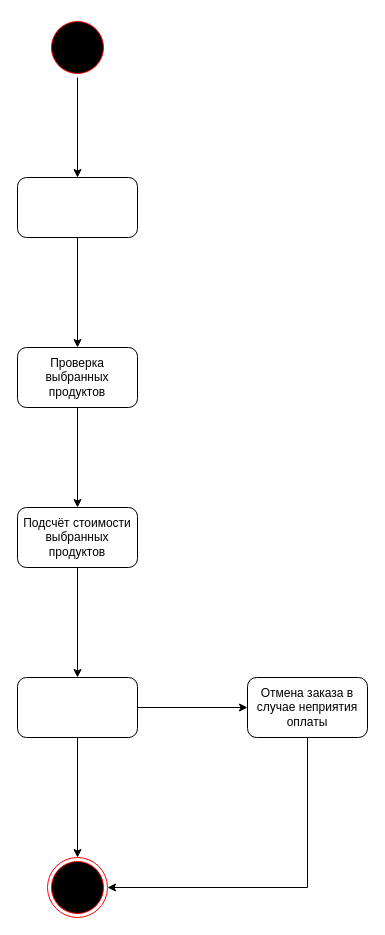
This 385x935 diagram has some shape labels left out. The shapes that lost their labels are listed below. From the top down, each one's centre as x and y in pixels, then its label:
At (x=77, y=207): "Проверка выбранного магазина".
At (x=77, y=707): "Обработка платежа".
